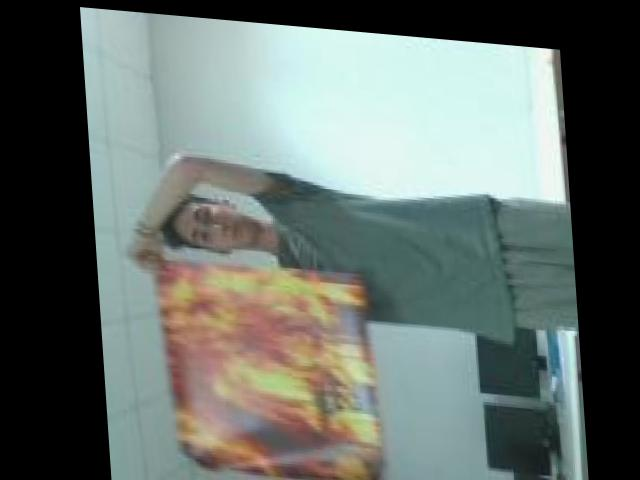fire-poster: (146, 246, 381, 480)
